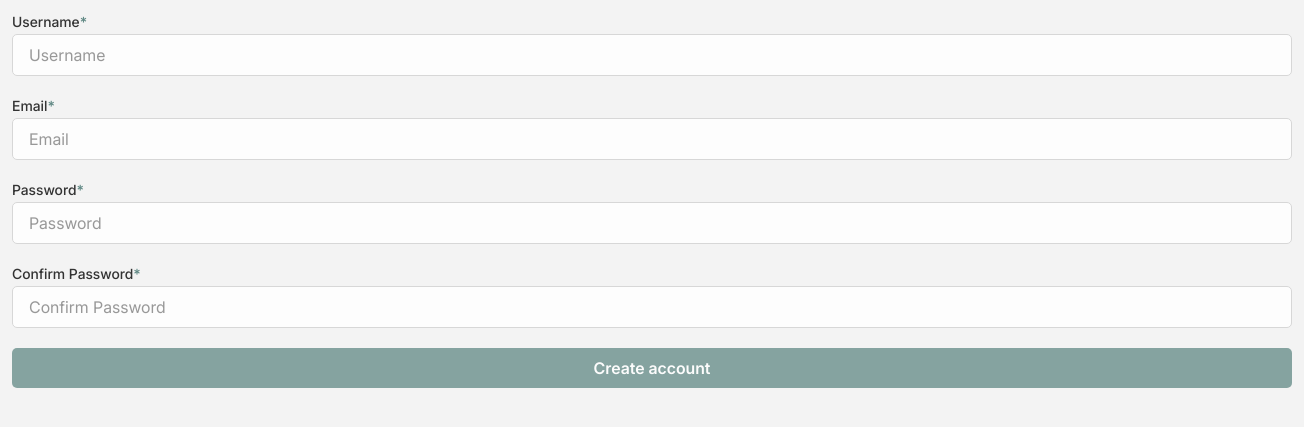
Test: SignUpForm.tsx › should display the correct error message if the email is taken
Type "username" into the field labelled "Username*".
click(652, 55); type("username")  # box [12, 34, 1292, 76]
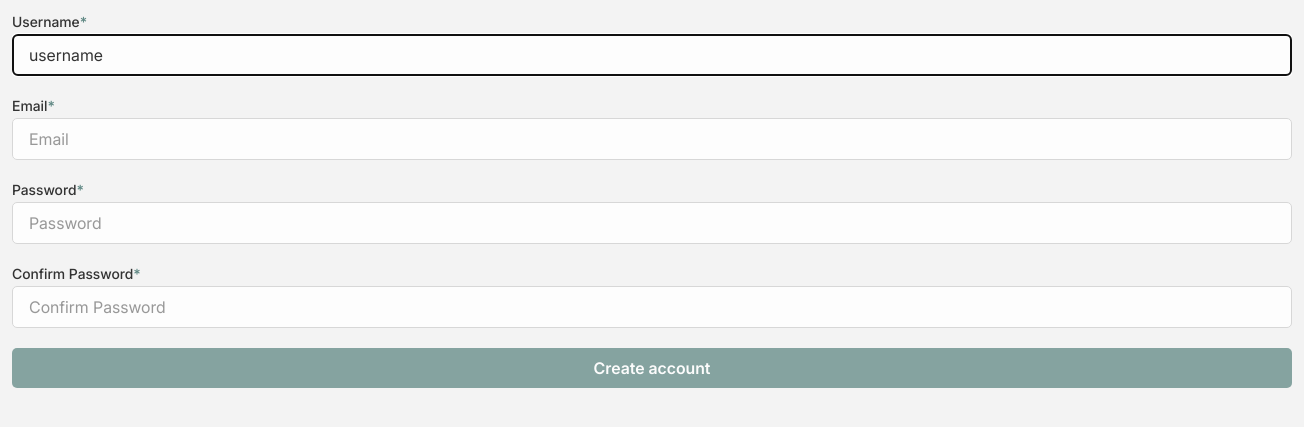
Type "email@email.com" into the field labelled "Email*".
click(652, 139); type("email@email.com")  # box [12, 118, 1292, 160]
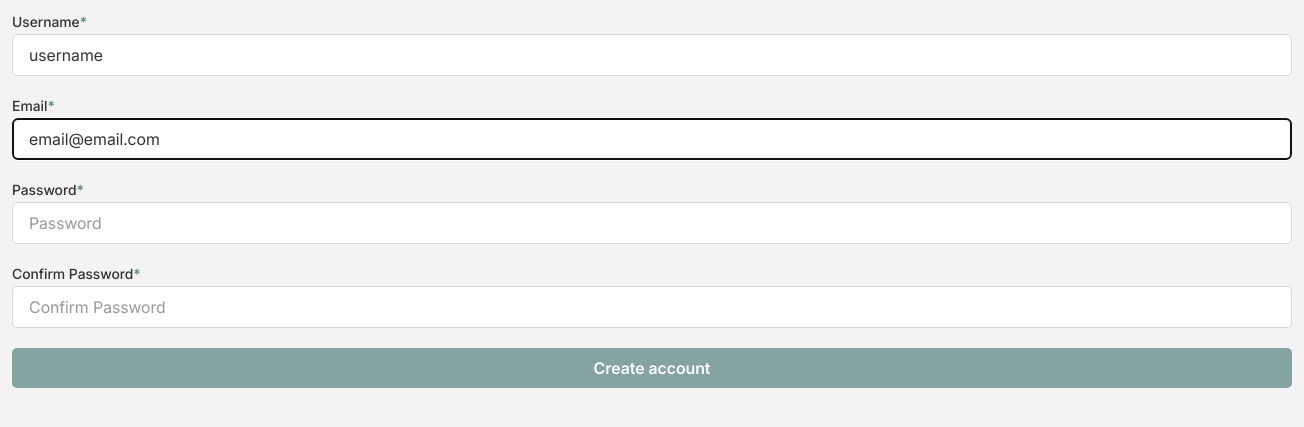
Type "!Password123" into the password field with placeholder "Password".
click(652, 223); type("!Password123")  # box [12, 202, 1292, 244]
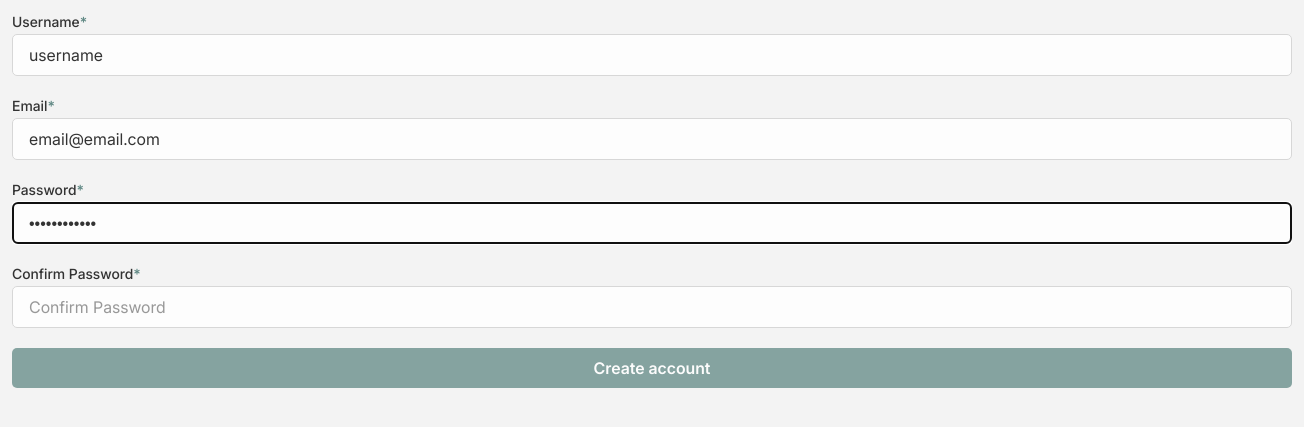
Type "!Password123" into the password field labelled "Confirm Password*".
click(652, 307); type("!Password123")  # box [12, 286, 1292, 328]
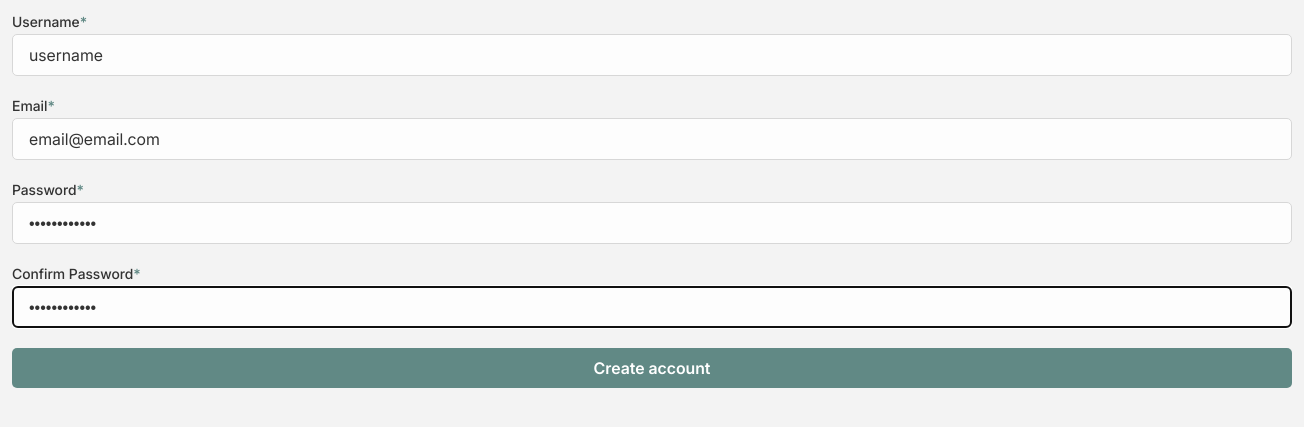
Click the button "Create account".
click(652, 368)  # box [12, 348, 1292, 388]
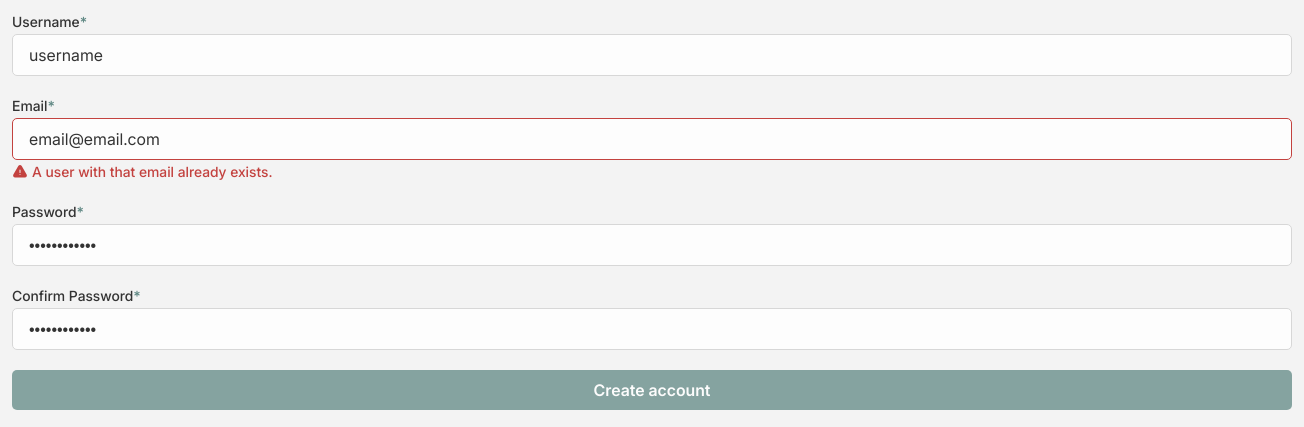
Check: the text "A user with that email already exists." is shown, box [12, 162, 272, 182]
